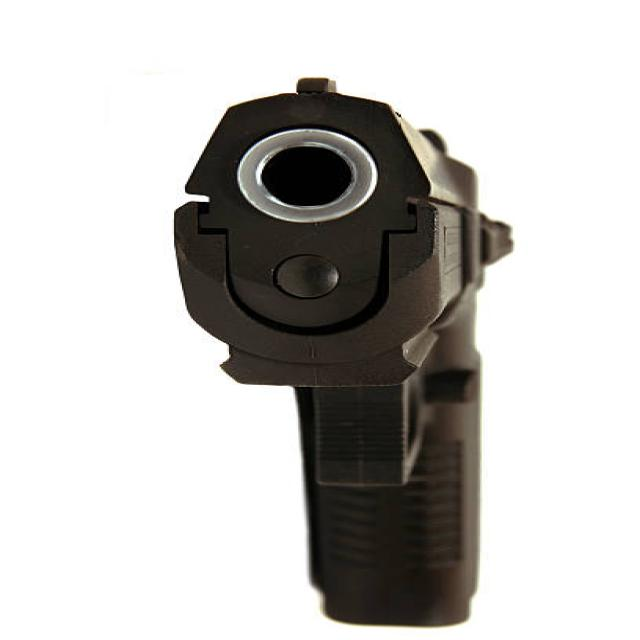pistol: (163, 73, 523, 632)
